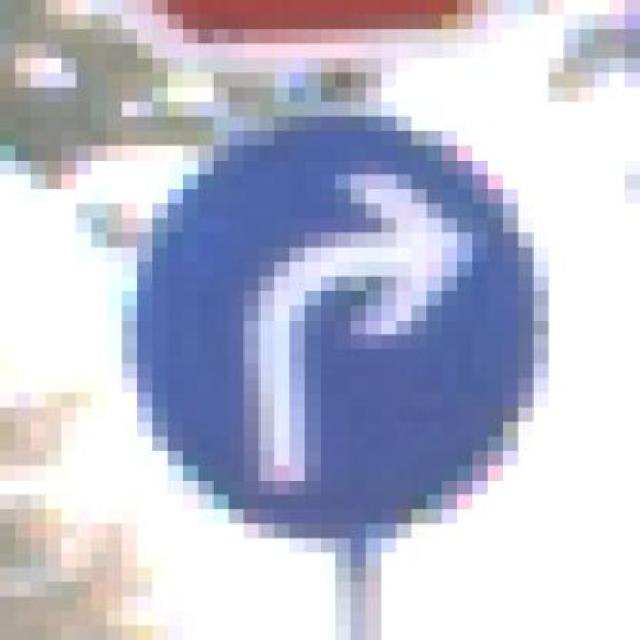Turn right ahead: (76, 102, 595, 552)
